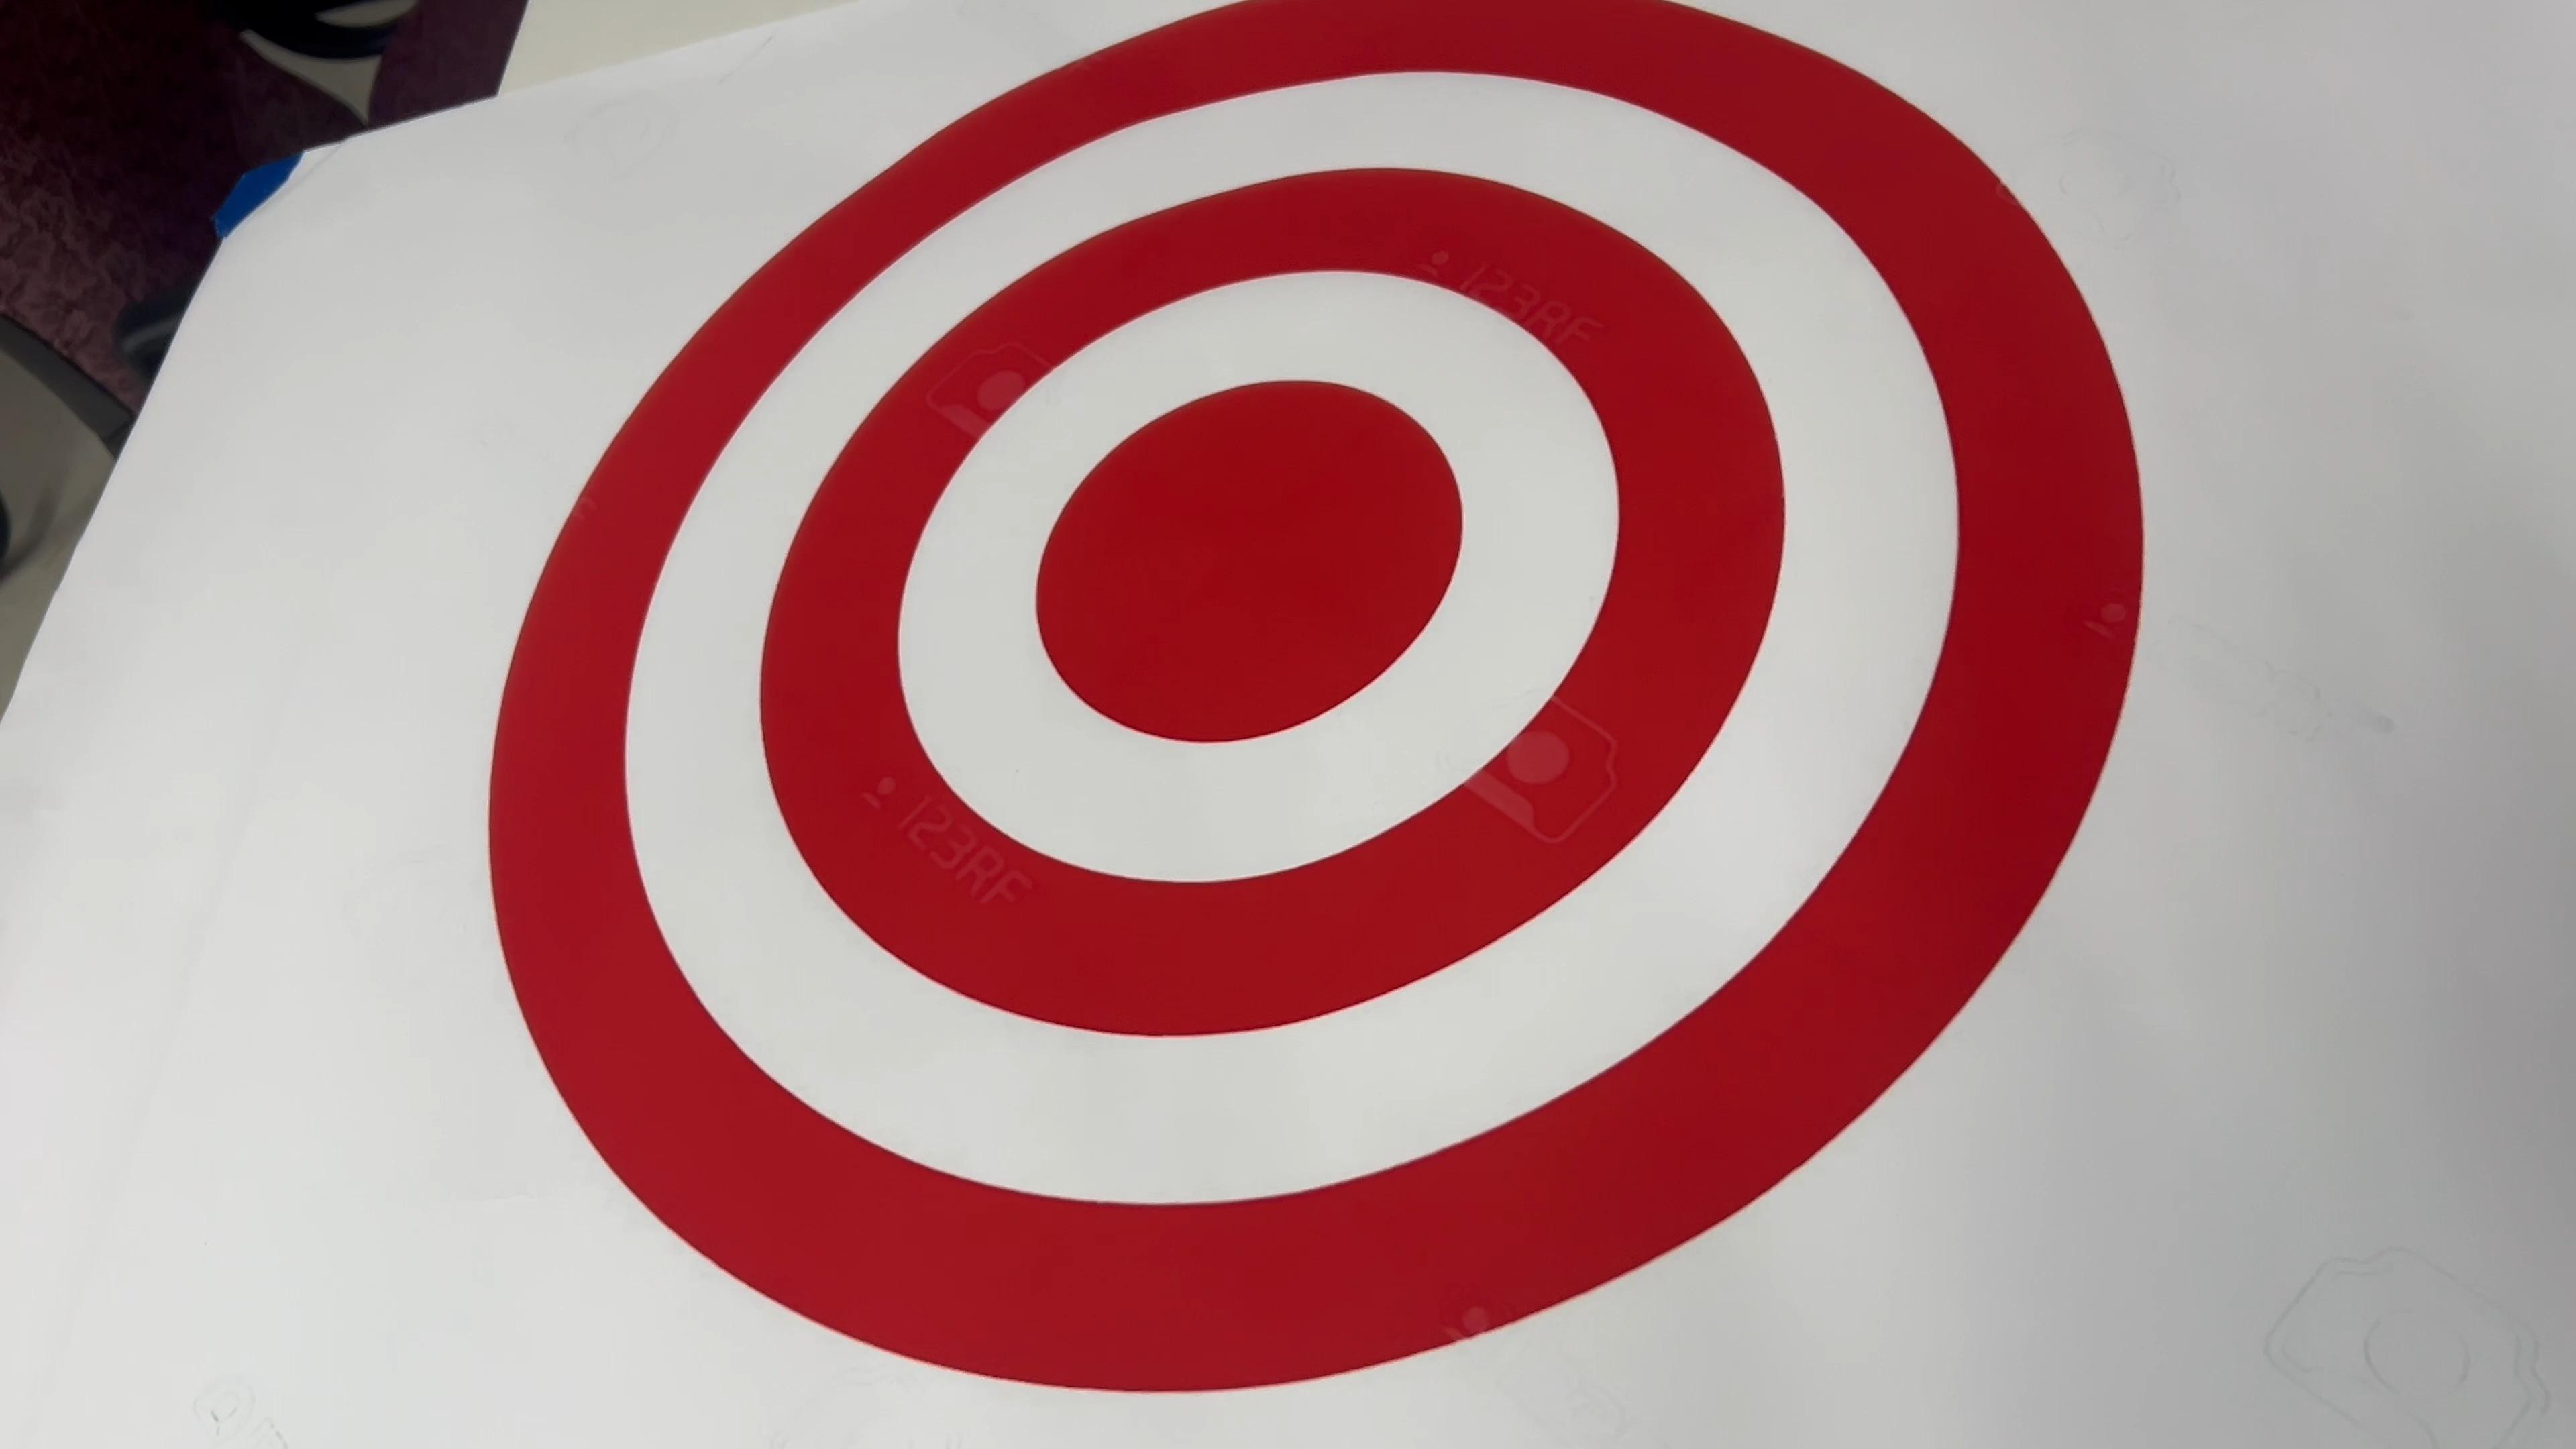target_red: (464, 7, 2176, 1449)
